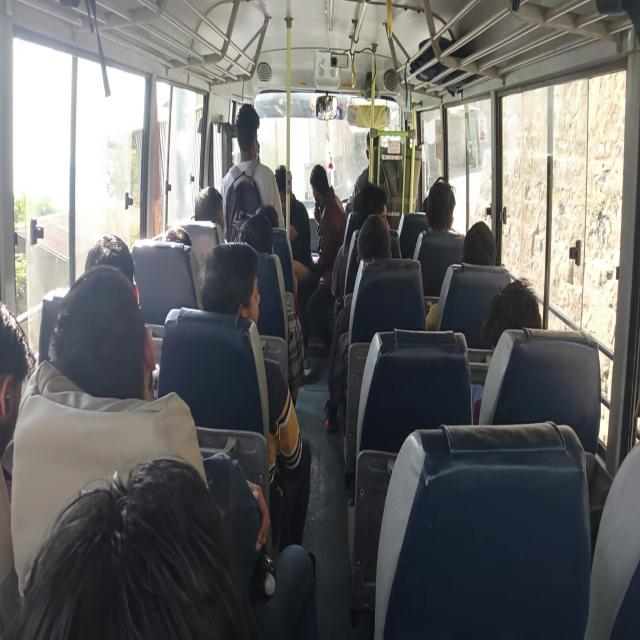person: (11, 454, 252, 636), (49, 265, 150, 402), (426, 217, 500, 335), (0, 291, 36, 508), (198, 239, 258, 320), (480, 278, 543, 349), (83, 234, 138, 288), (355, 212, 392, 263), (350, 180, 388, 229), (424, 179, 457, 234), (192, 184, 225, 238), (238, 209, 276, 255), (461, 220, 498, 266), (235, 103, 260, 145), (273, 164, 295, 203), (159, 225, 194, 248), (309, 163, 329, 193), (257, 204, 279, 230), (420, 195, 431, 213)
